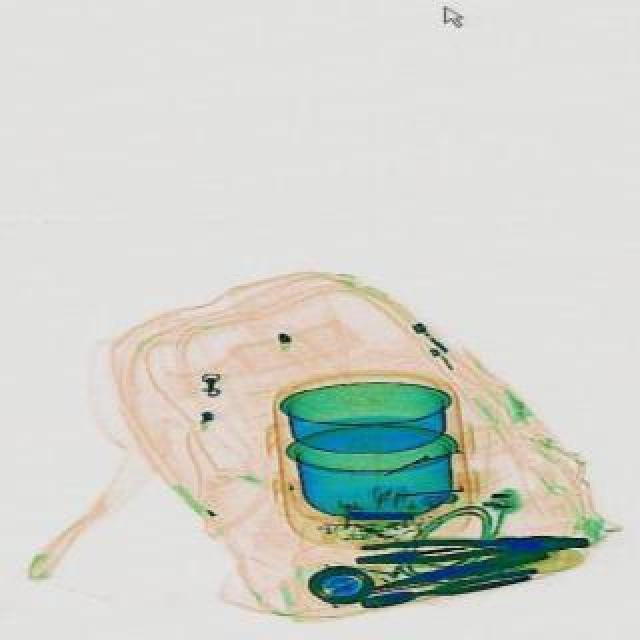wrench: (356, 560, 536, 612), (352, 528, 586, 566)
